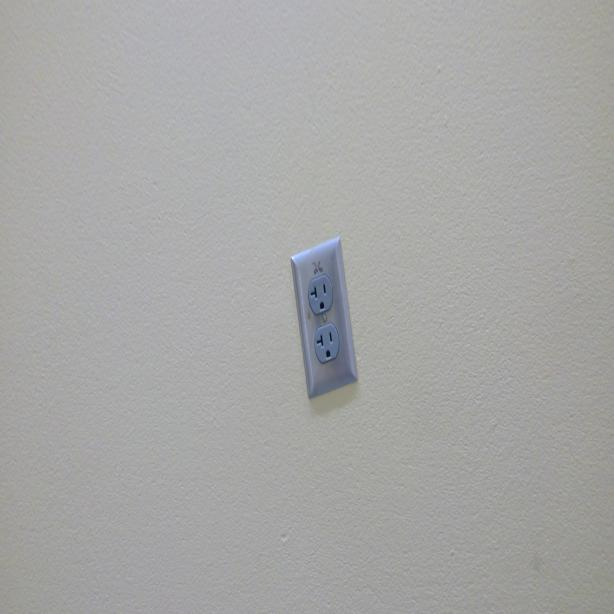typeb: (307, 276, 333, 316), (314, 324, 339, 360)
